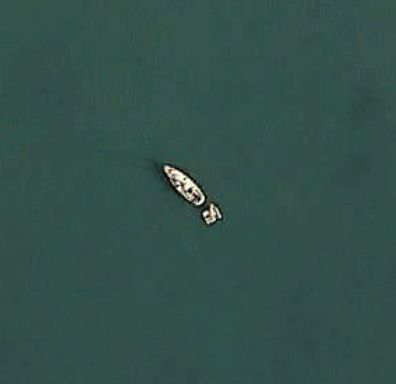boat: (159, 160, 222, 224)
